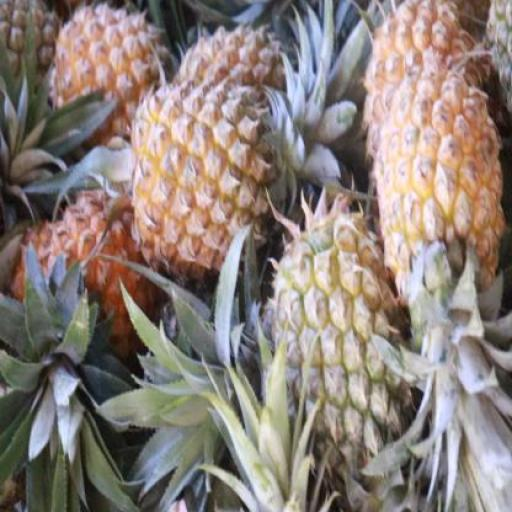------------------------------: (262, 214, 415, 474)
Pineapple - v8 v1: (382, 63, 504, 305), (141, 86, 277, 267), (5, 192, 146, 366), (54, 12, 172, 140)
